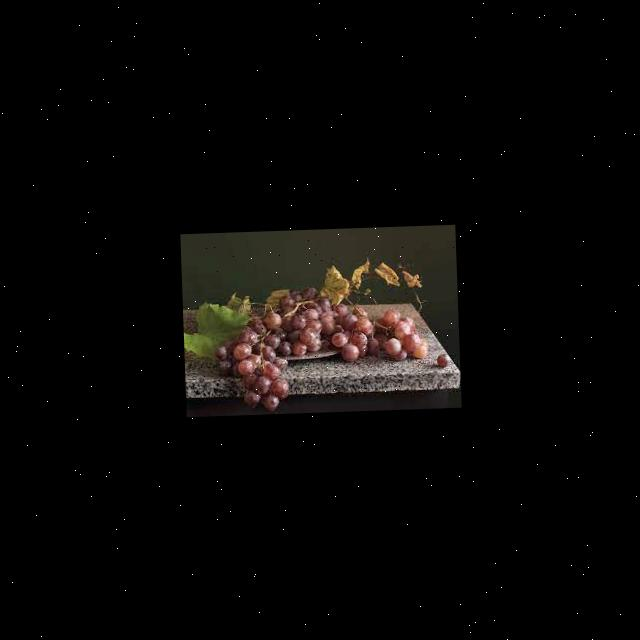grape: (212, 281, 428, 411)
